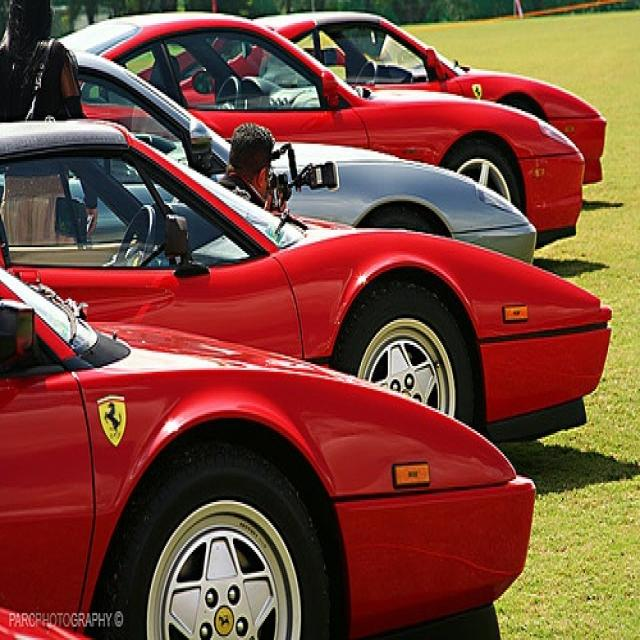car: (0, 260, 545, 636), (0, 117, 612, 448), (55, 11, 585, 255), (0, 50, 539, 268), (253, 9, 607, 186)
